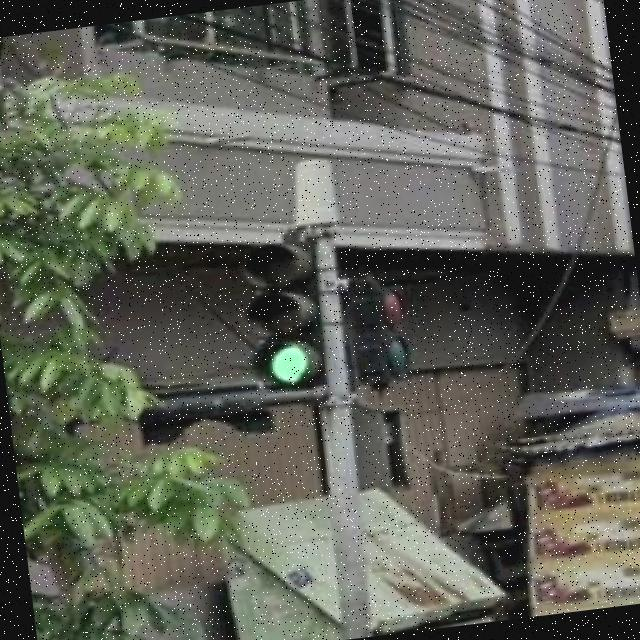Zielone swiatlo: (242, 235, 336, 390)
